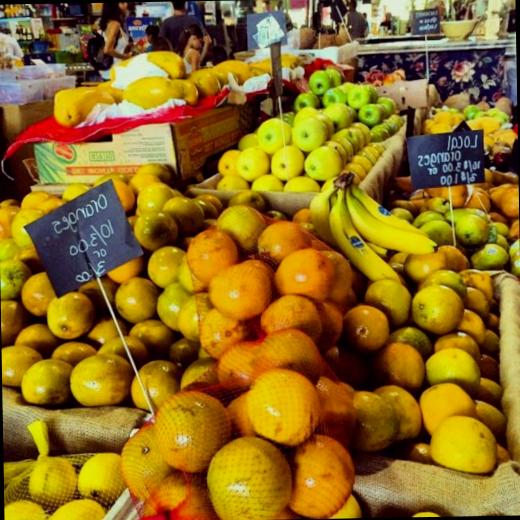Banana: (307, 180, 440, 282)
Grape: (203, 262, 270, 322), (66, 352, 134, 408), (22, 353, 84, 414), (106, 275, 156, 331), (274, 247, 333, 294), (188, 228, 238, 280), (138, 358, 181, 418), (138, 246, 186, 291), (3, 340, 40, 394), (52, 288, 93, 333), (221, 203, 258, 251), (258, 219, 302, 259), (18, 270, 56, 312), (135, 318, 169, 352), (16, 182, 53, 208), (97, 336, 143, 356), (21, 318, 50, 349), (503, 182, 520, 214), (0, 197, 12, 239)
